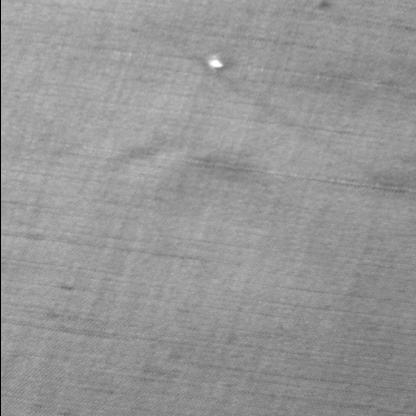hole: (202, 53, 229, 72)
